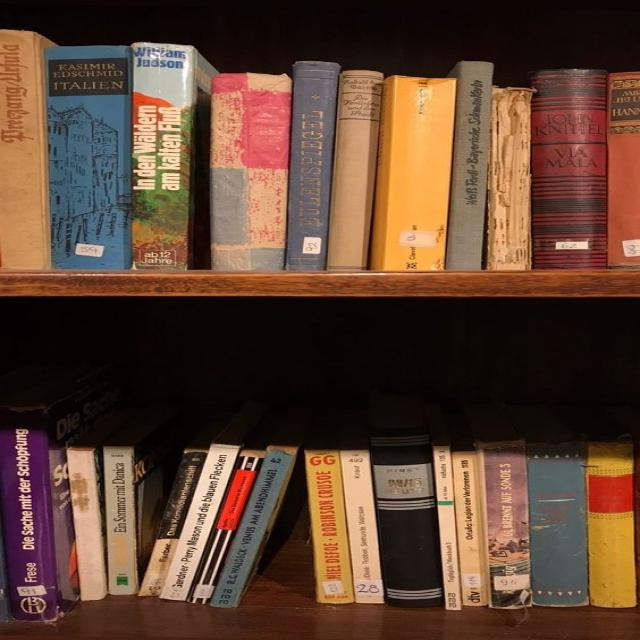book: (46, 46, 129, 268), (211, 73, 291, 269), (531, 68, 607, 269), (382, 75, 457, 270), (131, 42, 195, 270), (209, 448, 296, 608), (367, 426, 443, 606), (1, 403, 59, 621), (160, 444, 240, 602), (284, 60, 343, 270), (187, 455, 263, 604), (327, 70, 383, 269), (0, 30, 46, 267), (444, 61, 495, 270), (527, 441, 589, 606), (140, 450, 207, 596), (478, 440, 531, 608), (484, 87, 532, 270), (586, 441, 637, 606), (305, 449, 355, 603), (606, 71, 640, 265), (340, 449, 383, 602), (451, 452, 486, 605), (103, 446, 138, 594), (69, 450, 103, 600), (433, 446, 463, 611)
